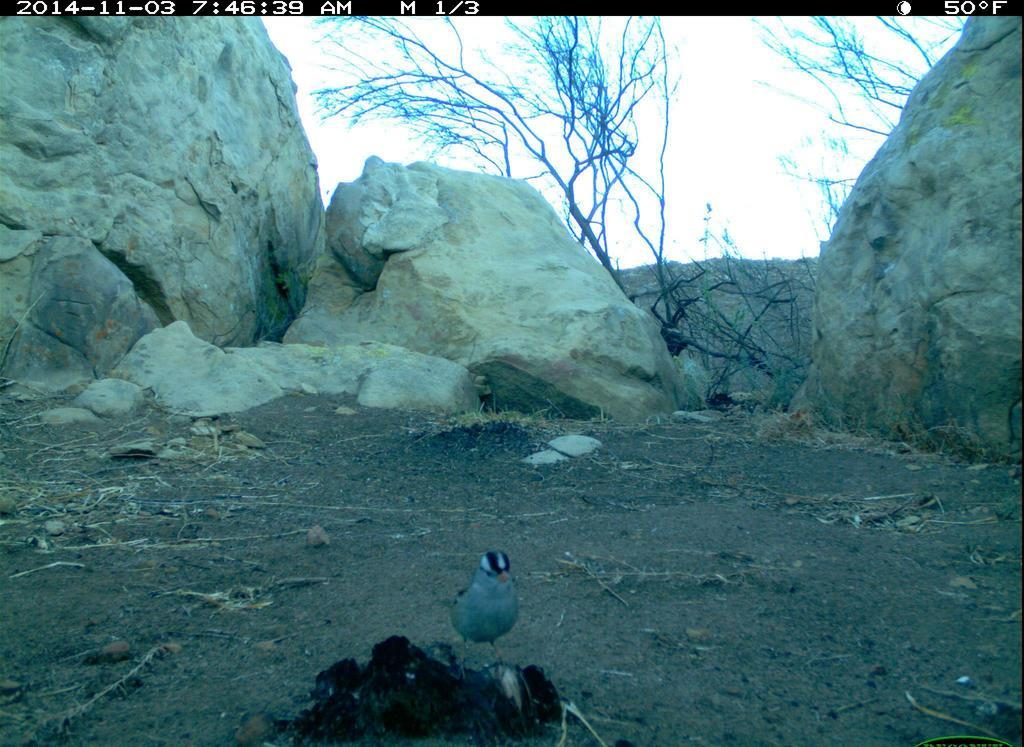bird: (446, 537, 534, 644)
